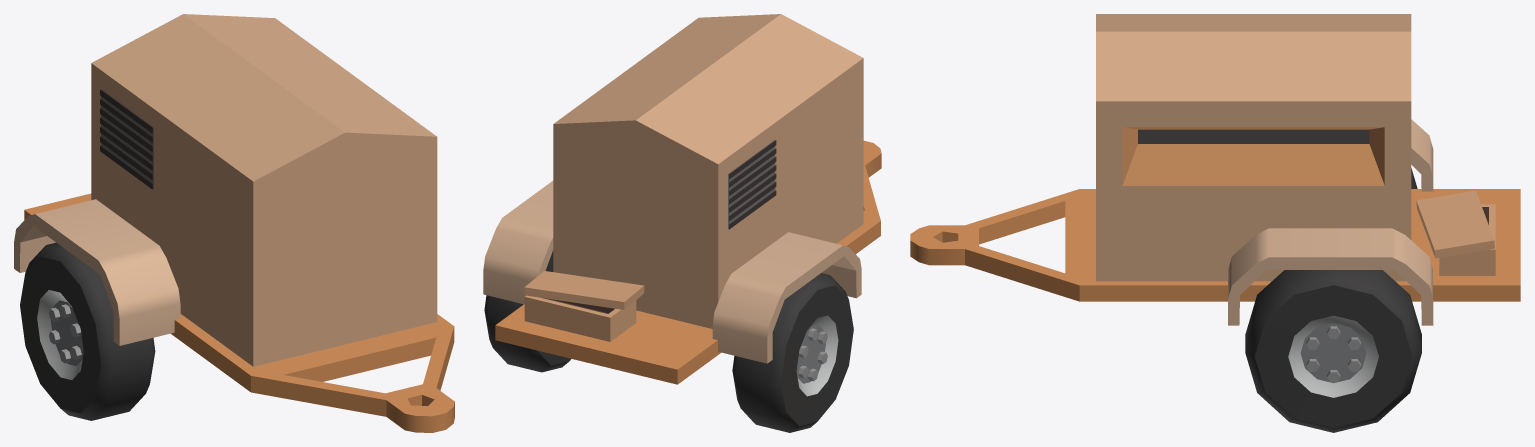
File: ds_generator.glb
3 renders of one model, left to right at view 1: azimuth 30°, elevation 25°; view 2: azimuth 150°, elevation 25°; view 3: azimuth 270°, elevation 25°, orthographic. The views are drawn at different scales.
Visible parts, largest first — view 1: ds_generator; view 2: ds_generator; view 3: ds_generator.
Part boxes in pixels (x1,y1,x2,y2): ds_generator: (14,14,454,432); ds_generator: (483,14,881,432); ds_generator: (910,14,1520,432).
Size of the model in its own units: 1.82 by 1.76 by 2.98.
